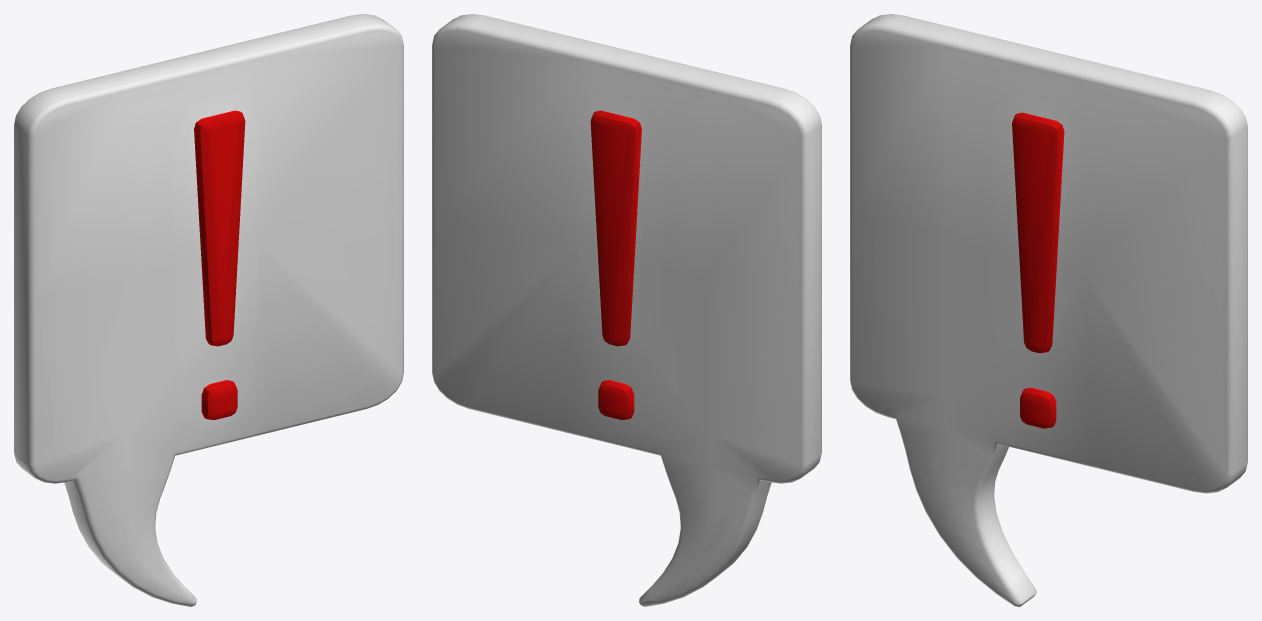
The model's file is tts.glb.
3 views of the same model, side by side, from view 1: azimuth 30°, elevation 25°; view 2: azimuth 150°, elevation 25°; view 3: azimuth 330°, elevation 25° (orthographic). The views are drawn at different scales.
Visible parts, largest first — view 1: Exclamation Bubble; view 2: Exclamation Bubble; view 3: Exclamation Bubble.
Part boxes in pixels (bbox=[...]): Exclamation Bubble: bbox=[14, 14, 403, 606]; Exclamation Bubble: bbox=[432, 14, 821, 606]; Exclamation Bubble: bbox=[850, 14, 1247, 606].
Size of the model in its own units: 2.84 by 3.89 by 0.3858.
1 material, 1 textured.
